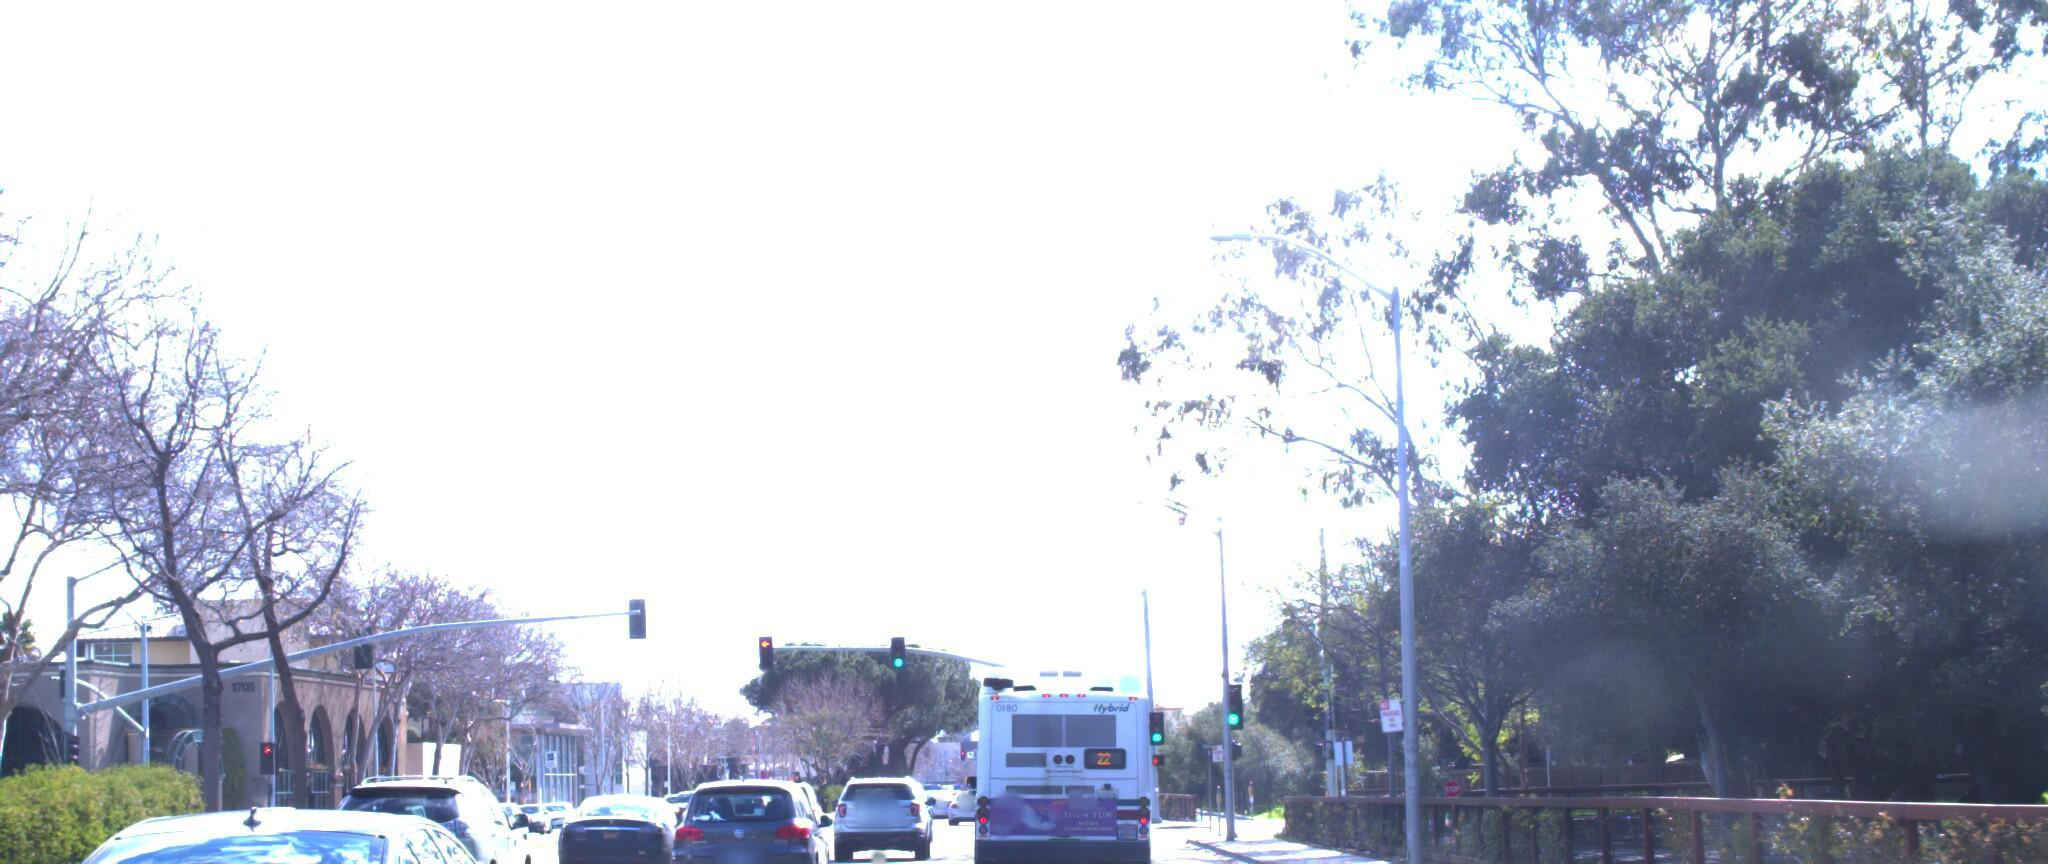bus: (963, 653, 1166, 864)
car: (0, 800, 596, 864), (300, 764, 536, 864), (660, 777, 825, 864), (545, 792, 680, 864), (829, 777, 930, 864)
